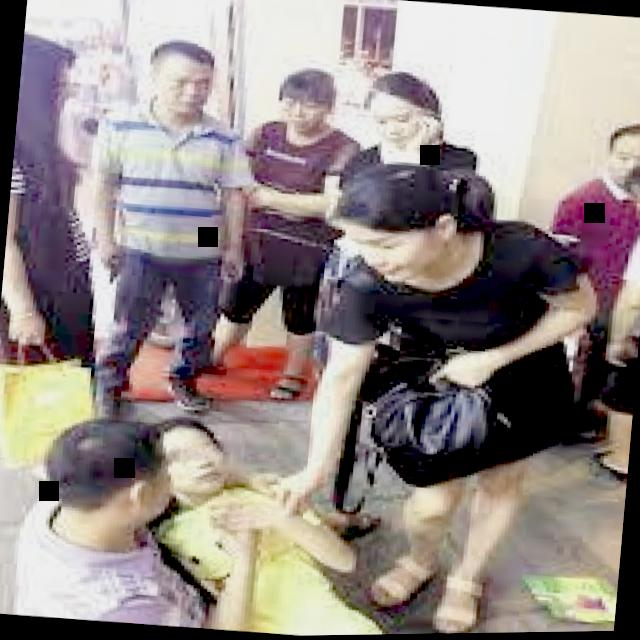Fall-Detected: (90, 385, 503, 639)
